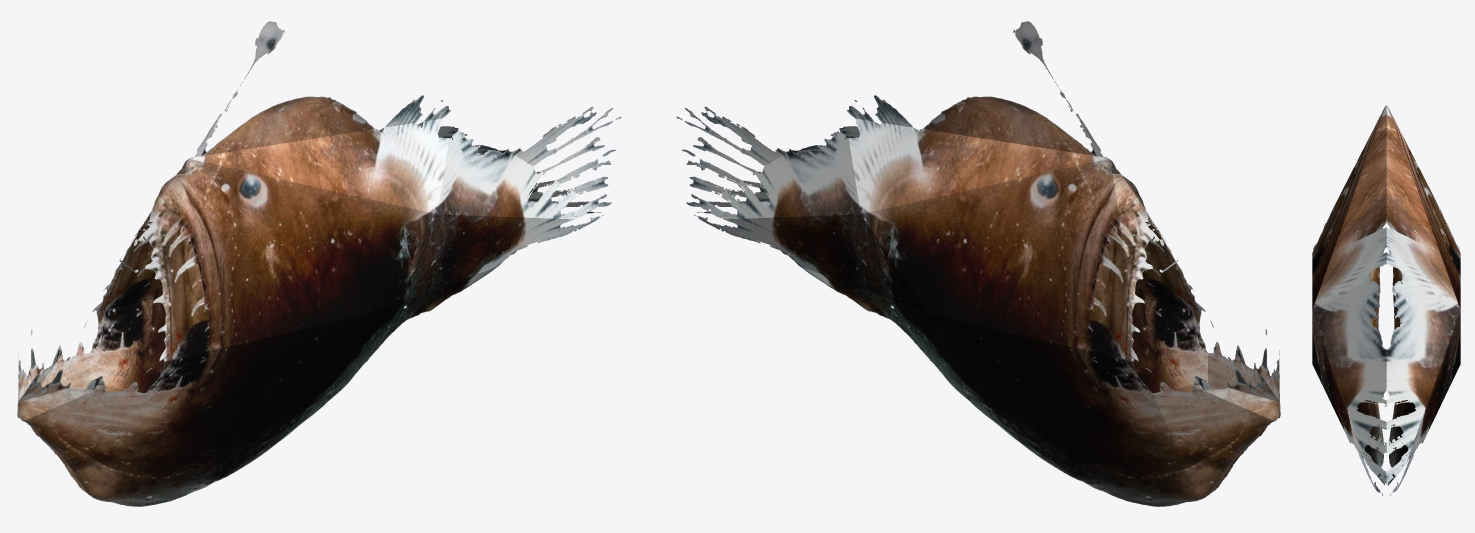
File: anglerfish.fbx
3 renders of one model, left to right at view 1: azimuth 30°, elevation 25°; view 2: azimuth 150°, elevation 25°; view 3: azimuth 270°, elevation 25°, orthographic. The views are drawn at different scales.
Visible parts, largest first — view 1: anglerfish; view 2: anglerfish; view 3: anglerfish.
Boxes of the visible parts, <box> form: anglerfish: <box>17,21,621,506</box>; anglerfish: <box>676,21,1280,506</box>; anglerfish: <box>1312,105,1460,495</box>.
Bounding box in the file's own units: 256 × 184 × 48.55.
